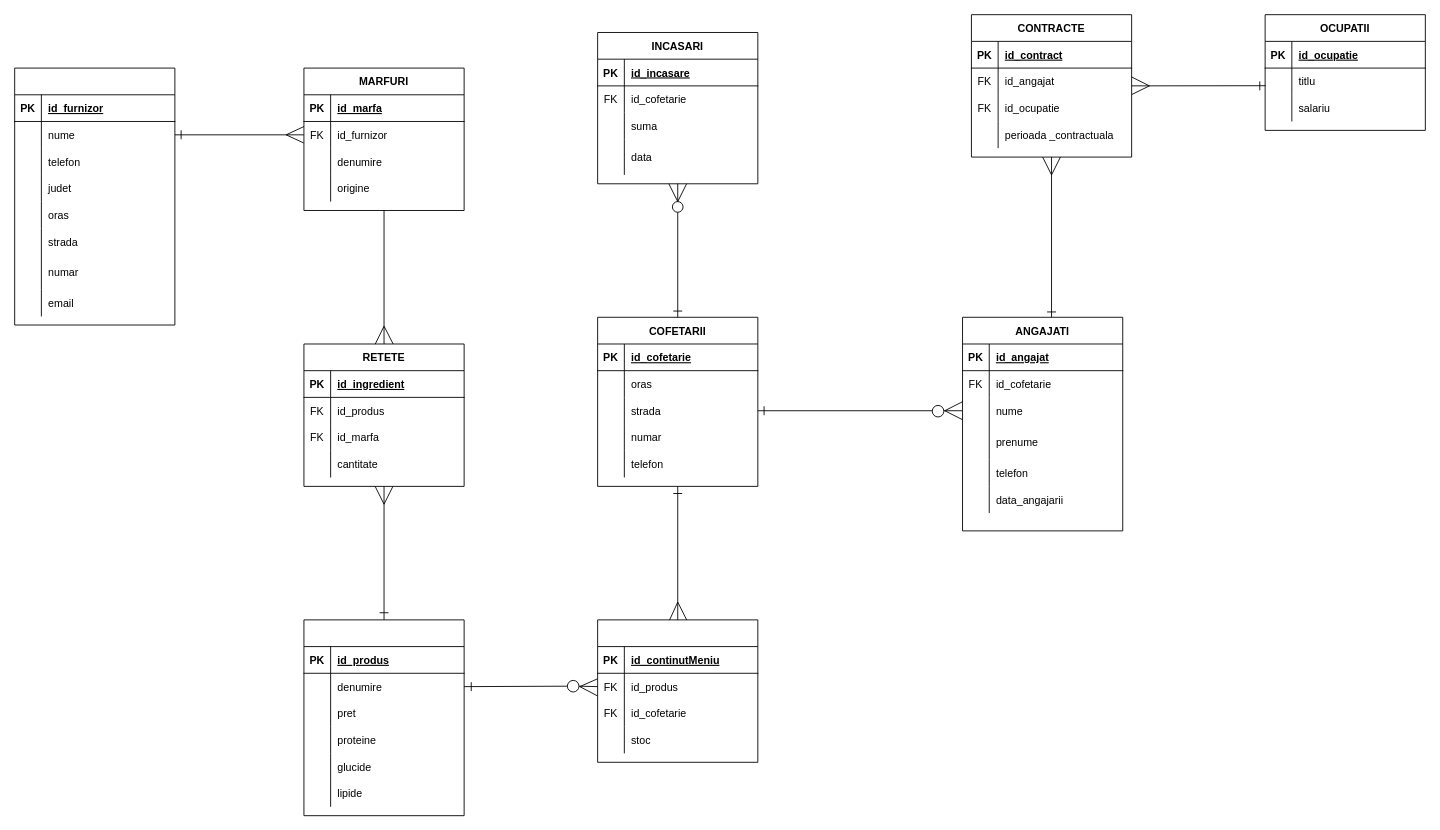
Image size: 1440x830. Some labels were removed from this diagram. The box of each missing label's shape, as (x1, y1, x2, y2) in pixels:
FURNIZORI: (14, 67, 175, 325)
MENIURI: (597, 619, 758, 762)
PRODUSE: (303, 619, 464, 816)
